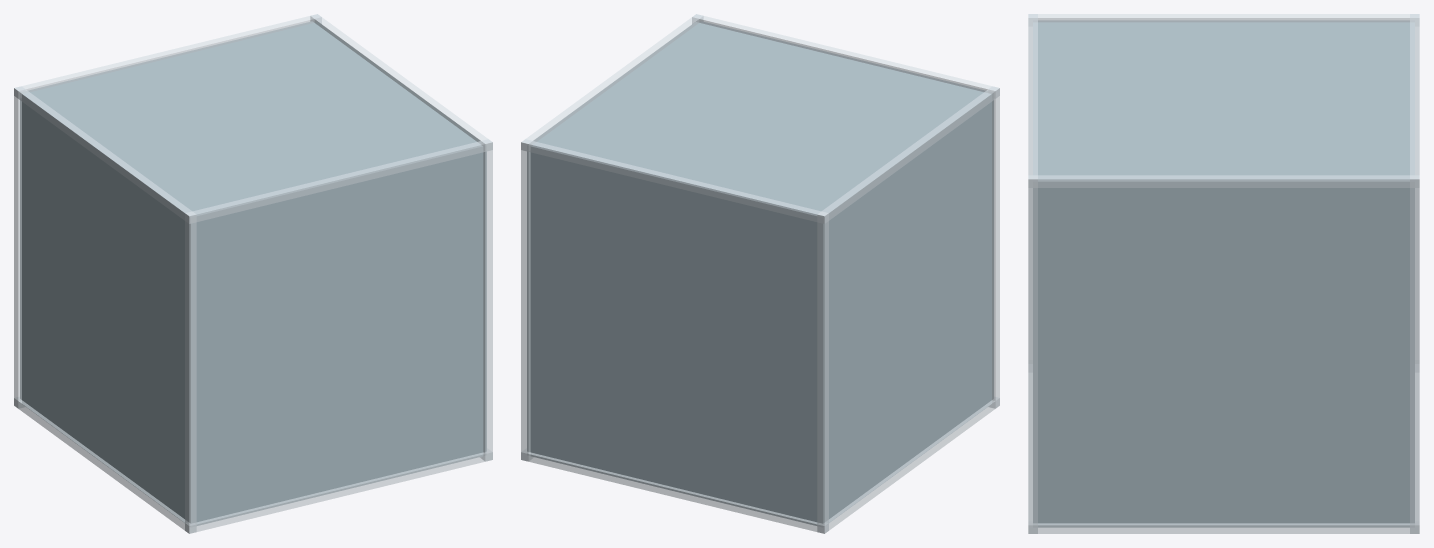
The model's file is invisible_box.glb.
3 views of the same model, side by side, from view 1: azimuth 30°, elevation 25°; view 2: azimuth 150°, elevation 25°; view 3: azimuth 270°, elevation 25° (orthographic). The views are drawn at different scales.
Parts seen in each view (by area): view 1: box_acrylic, edges_acrylic_edge; view 2: box_acrylic, edges_acrylic_edge; view 3: box_acrylic, edges_acrylic_edge.
Boxes of the visible parts, <box> form: box_acrylic: <box>20,21,486,525</box>; edges_acrylic_edge: <box>14,14,492,533</box>; box_acrylic: <box>527,21,993,525</box>; edges_acrylic_edge: <box>521,14,999,533</box>; box_acrylic: <box>1033,20,1414,527</box>; edges_acrylic_edge: <box>1028,14,1419,533</box>.
Bounding box in the file's own units: 0.41 × 0.41 × 0.41.
